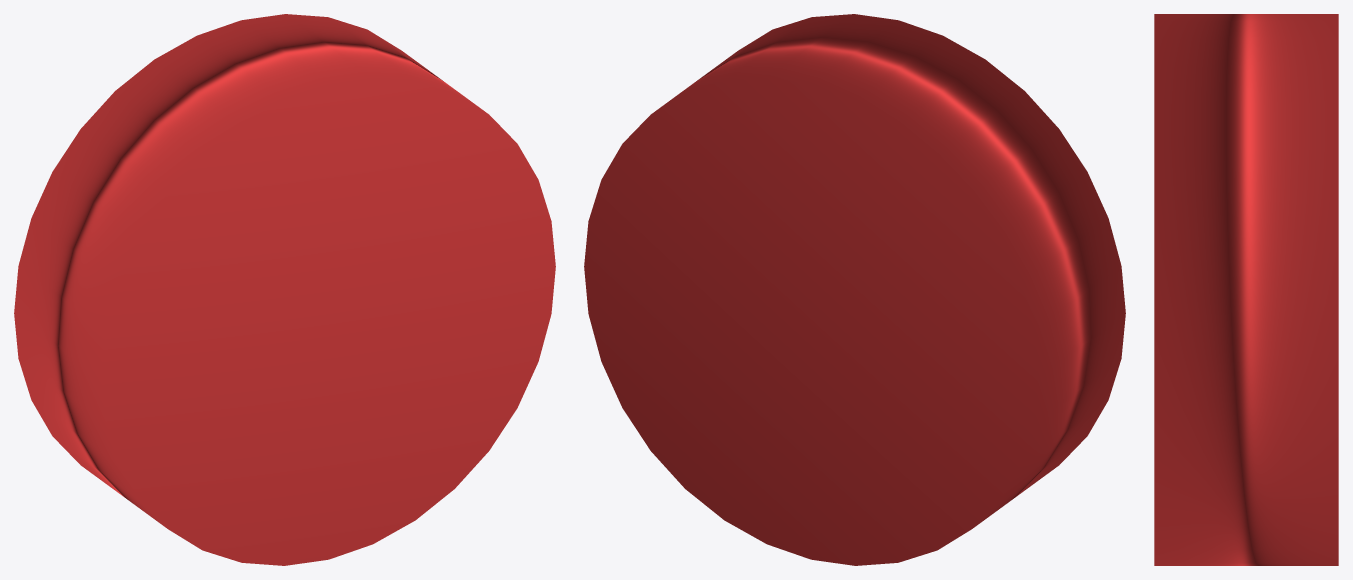
Rendered from CROSSOVER_Recovery_D_Ring.glb.
3 views of the same model, side by side, from view 1: azimuth 30°, elevation 25°; view 2: azimuth 150°, elevation 25°; view 3: azimuth 270°, elevation 25° (orthographic). The views are drawn at different scales.
Parts seen in each view (by area): view 1: CROSSOVER_Recovery_D_Ring; view 2: CROSSOVER_Recovery_D_Ring; view 3: CROSSOVER_Recovery_D_Ring.
Part boxes in pixels (x1,y1,x2,y2): CROSSOVER_Recovery_D_Ring: (14, 14, 555, 565); CROSSOVER_Recovery_D_Ring: (584, 14, 1125, 565); CROSSOVER_Recovery_D_Ring: (1154, 14, 1338, 565).
Size of the model in its own units: 0.06 by 0.06 by 0.02.
